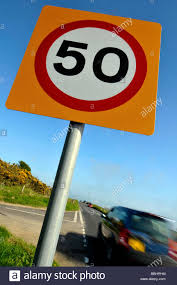Speed_limit_50km: (32, 19, 149, 111)
